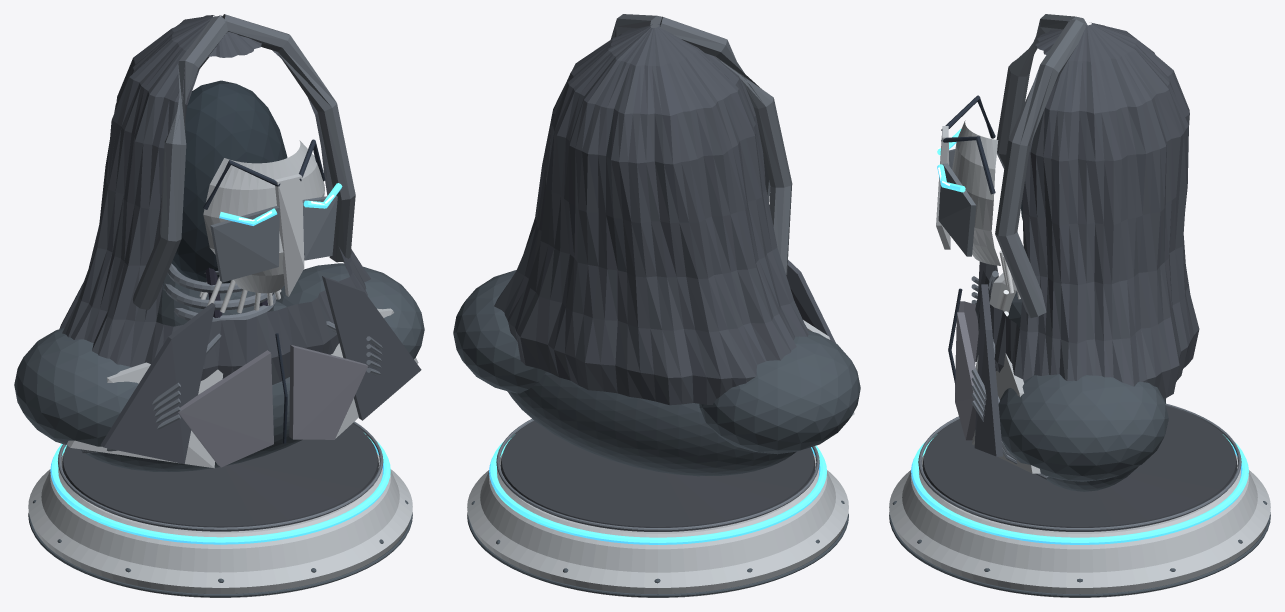
File: ghost_001_display.glb
3 views of the same model, side by side, from view 1: azimuth 30°, elevation 25°; view 2: azimuth 150°, elevation 25°; view 3: azimuth 270°, elevation 25° (orthographic).
Parts seen in each view (by area): view 1: HEAD_fabric, PODIUM_brushed_silver, PODIUM_charcoal, TORSO_dark_steel, TORSO_fabric, TORSO_chrome, HEAD_fabric_fold, HEAD_rubber, HEAD_brushed_silver, HEAD_gunmetal, TORSO_gunmetal, PODIUM_blue (+7 smaller); view 2: HEAD_fabric, TORSO_dark_steel, PODIUM_brushed_silver, PODIUM_charcoal, HEAD_fabric_fold, PODIUM_blue, PODIUM_dark_steel, PODIUM_gunmetal, TORSO_fabric; view 3: HEAD_fabric, PODIUM_brushed_silver, PODIUM_charcoal, TORSO_dark_steel, HEAD_fabric_fold, HEAD_brushed_silver, PODIUM_blue, TORSO_fabric, TORSO_chrome, HEAD_gunmetal, PODIUM_gunmetal, PODIUM_dark_steel (+4 smaller).
Boxes of the visible parts, bbox=[...] form: HEAD_fabric: bbox=[59, 15, 370, 384]; PODIUM_brushed_silver: bbox=[28, 453, 412, 597]; PODIUM_charcoal: bbox=[62, 423, 378, 531]; TORSO_dark_steel: bbox=[14, 263, 424, 471]; TORSO_fabric: bbox=[100, 276, 421, 463]; TORSO_chrome: bbox=[178, 344, 368, 467]; HEAD_fabric_fold: bbox=[133, 14, 355, 309]; HEAD_rubber: bbox=[171, 80, 287, 283]; HEAD_brushed_silver: bbox=[203, 140, 324, 293]; HEAD_gunmetal: bbox=[210, 196, 337, 282]; TORSO_gunmetal: bbox=[81, 263, 382, 453]; PODIUM_blue: bbox=[50, 433, 390, 544]; HEAD_fabric: bbox=[494, 24, 809, 405]; TORSO_dark_steel: bbox=[453, 270, 860, 476]; PODIUM_brushed_silver: bbox=[467, 453, 848, 597]; PODIUM_charcoal: bbox=[500, 420, 815, 531]; HEAD_fabric_fold: bbox=[610, 14, 792, 274]; PODIUM_blue: bbox=[489, 434, 826, 544]; PODIUM_dark_steel: bbox=[467, 500, 848, 597]; PODIUM_gunmetal: bbox=[496, 419, 819, 531]; TORSO_fabric: bbox=[786, 260, 835, 343]; HEAD_fabric: bbox=[975, 22, 1199, 398]; PODIUM_brushed_silver: bbox=[889, 453, 1270, 597]; PODIUM_charcoal: bbox=[922, 406, 1237, 531]; TORSO_dark_steel: bbox=[998, 290, 1168, 491]; HEAD_fabric_fold: bbox=[995, 14, 1087, 317]; HEAD_brushed_silver: bbox=[952, 120, 1000, 265]; PODIUM_blue: bbox=[911, 434, 1248, 544]; TORSO_fabric: bbox=[974, 261, 1002, 456]; TORSO_chrome: bbox=[955, 301, 978, 440]; HEAD_gunmetal: bbox=[938, 149, 976, 256]; PODIUM_gunmetal: bbox=[918, 403, 1241, 531]; PODIUM_dark_steel: bbox=[889, 501, 1270, 597].
Size of the model in its own units: 2.04 by 2.57 by 1.76.
